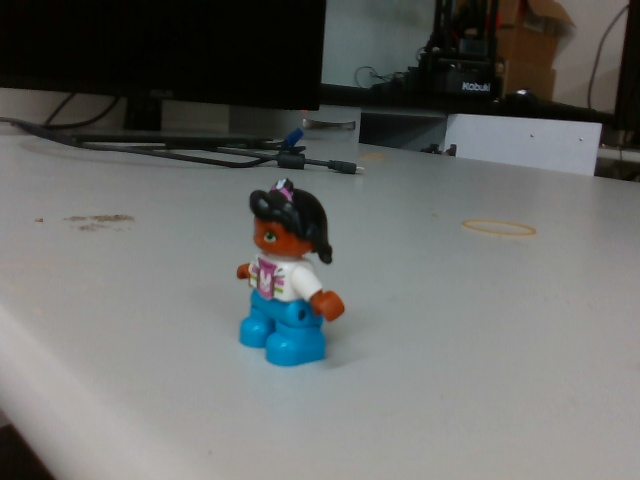people: (232, 175, 349, 371)
